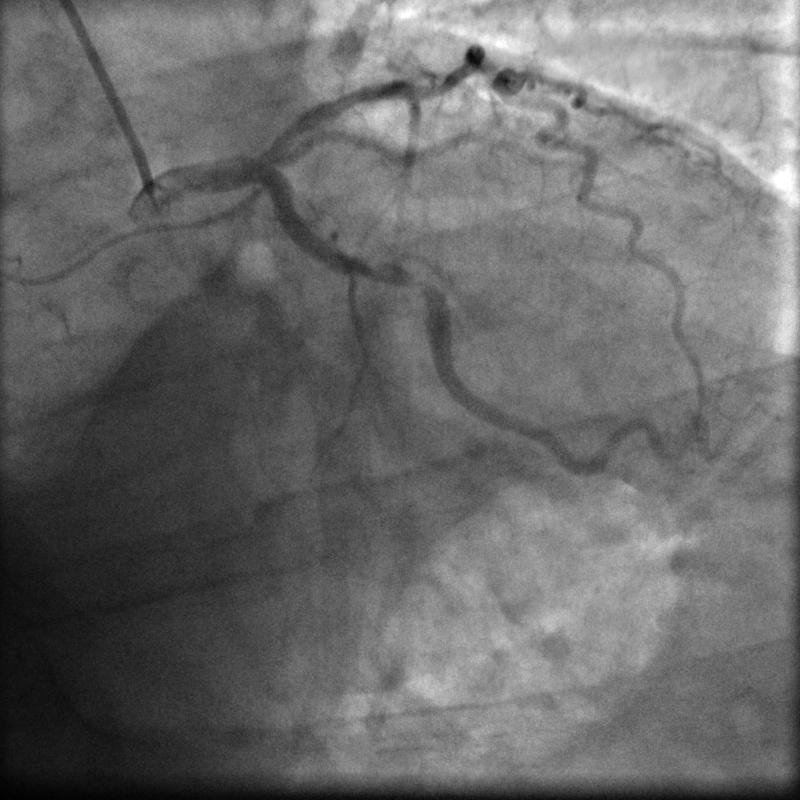Stenosis: (392, 264, 441, 301)
